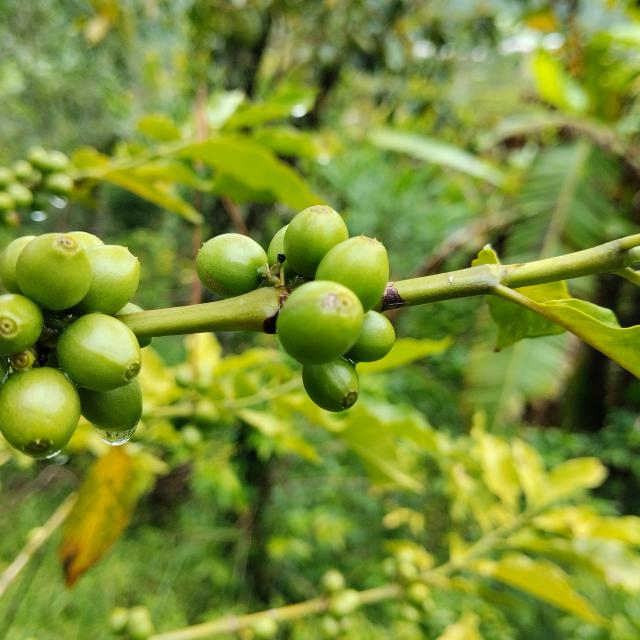green: (0, 367, 80, 460), (276, 280, 364, 364), (55, 314, 141, 391), (15, 233, 92, 310), (315, 235, 389, 312), (72, 244, 139, 316), (195, 233, 268, 298), (284, 205, 349, 278), (77, 379, 142, 431), (302, 357, 359, 412), (345, 310, 396, 363), (0, 294, 42, 355), (0, 235, 35, 294), (267, 223, 289, 265), (66, 231, 103, 249), (116, 302, 143, 315), (137, 338, 152, 348)
